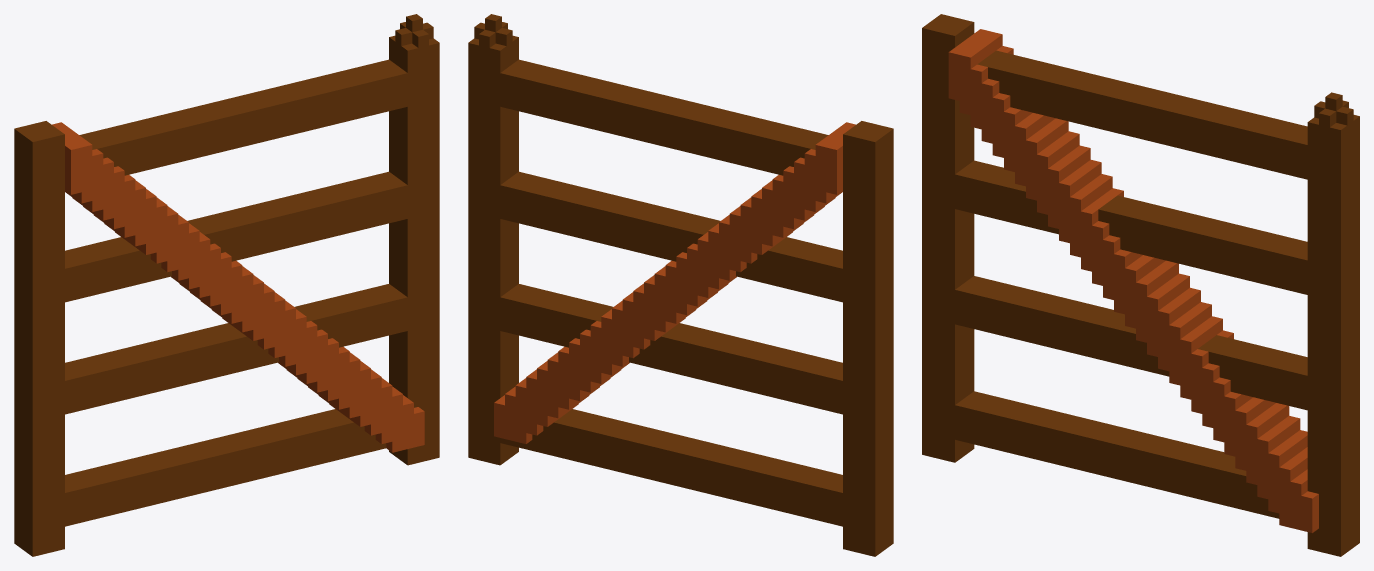
Rendered from gateForUnity.obj.
3 renders of one model, left to right at view 1: azimuth 30°, elevation 25°; view 2: azimuth 150°, elevation 25°; view 3: azimuth 330°, elevation 25°, orthographic. The views are drawn at different scales.
Size of the model in its own units: 3.8 by 3.9 by 0.5.
Materials: 1 (1 with a texture image).
